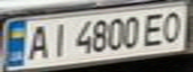0: (121, 12, 145, 50), (106, 16, 127, 52)
4: (72, 17, 93, 55)
8: (90, 16, 112, 53)
A: (24, 21, 54, 61)
E: (139, 10, 169, 47)
I: (45, 20, 72, 58)
O: (157, 7, 190, 44)
